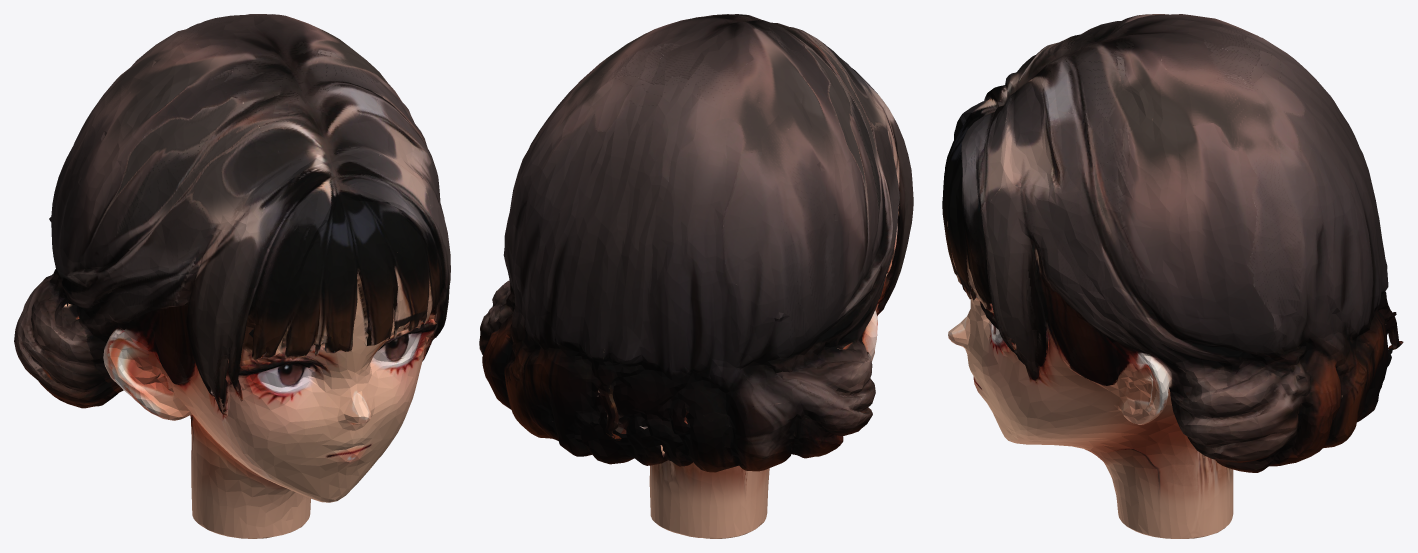
Rendered from side_campfollower_repaired_atlas.glb.
The picture shows the model from 3 angles, left to right: view 1: azimuth 30°, elevation 25°; view 2: azimuth 150°, elevation 25°; view 3: azimuth 270°, elevation 25°; orthographic projection.
Visible parts, largest first — view 1: temp_mesh.ply; view 2: temp_mesh.ply; view 3: temp_mesh.ply.
Boxes of the visible parts, bbox=[...] form: temp_mesh.ply: bbox=[14, 14, 450, 538]; temp_mesh.ply: bbox=[479, 14, 913, 538]; temp_mesh.ply: bbox=[942, 14, 1403, 538].
Size of the model in its own units: 1.29 by 1.58 by 1.36.
1 material, 1 textured.
